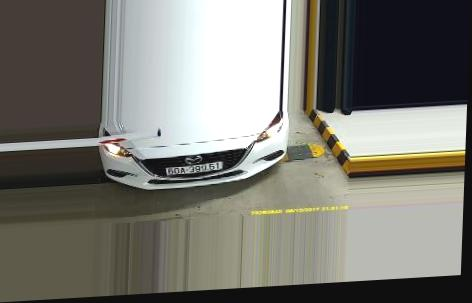License_Plate: (165, 163, 224, 177)
